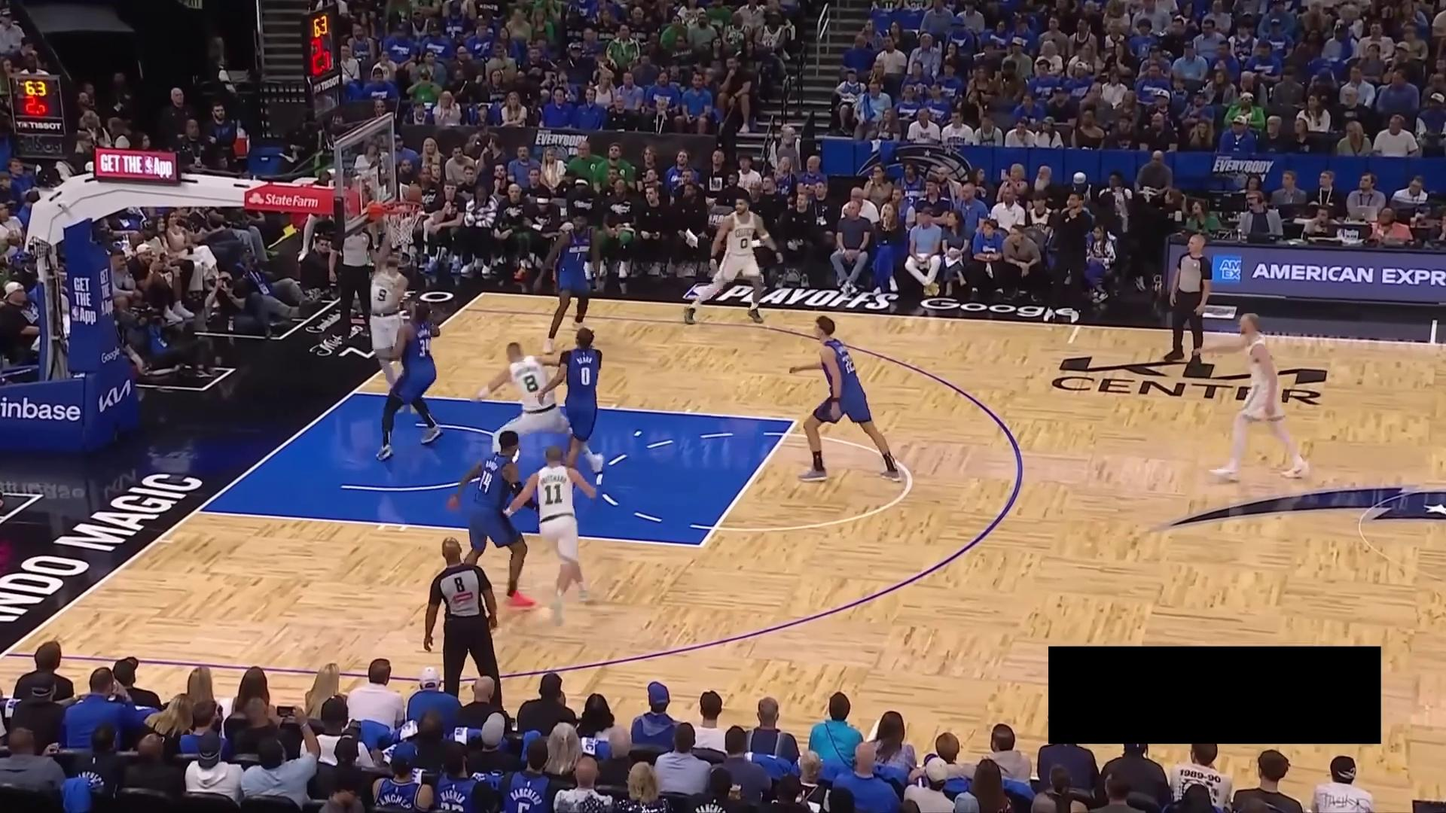ball: (404, 182, 422, 201)
number: (543, 483, 565, 505), (416, 337, 433, 358), (523, 374, 540, 392), (479, 471, 492, 494), (842, 354, 856, 374), (579, 365, 592, 386), (378, 289, 387, 302), (740, 238, 748, 249), (576, 252, 581, 262)
player: (788, 312, 909, 482), (1193, 310, 1308, 482), (473, 340, 611, 474), (504, 446, 603, 625), (446, 427, 539, 614), (682, 194, 788, 326), (371, 295, 448, 464), (536, 326, 603, 479), (535, 213, 606, 355)
player-layup-dunk: (366, 223, 423, 415)
referee: (422, 535, 518, 724), (1162, 228, 1214, 369), (324, 218, 384, 339)
rim: (381, 199, 424, 216)
